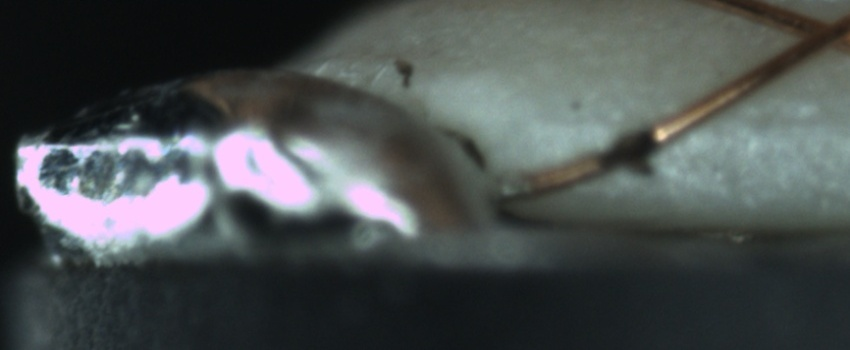CL: (775, 4, 849, 60)
DL: (538, 93, 850, 148)
